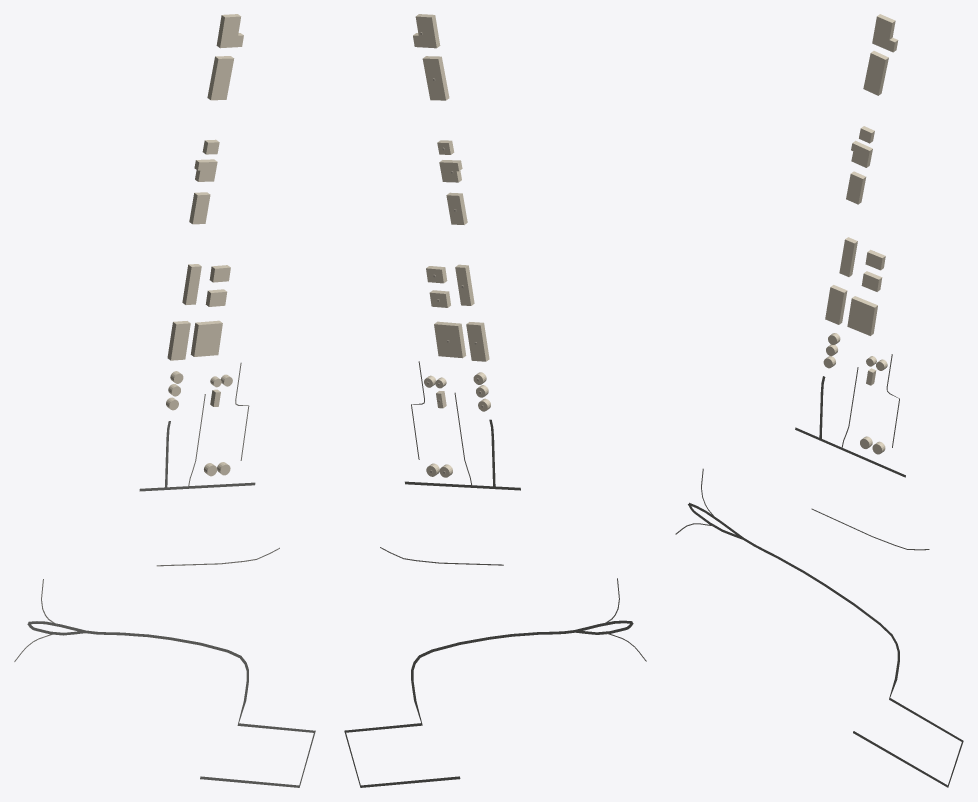
File: historic-palestine-12_16_3535_3102.glb
The picture shows the model from 3 angles, left to right: view 1: azimuth 30°, elevation 25°; view 2: azimuth 150°, elevation 25°; view 3: azimuth 330°, elevation 25°; orthographic projection. The views are drawn at different scales.
Visible parts, largest first — view 1: Road .001, Building_.012, Building_.009, Building_.005, Building_, Building_.004, Building_.016; view 2: Road .001, Building_.012, Building_.009, Building_.005, Building_, Building_.004, Building_.016; view 3: Road .001, Building_.012, Building_.009, Building_.005, Building_, Building_.004.
Boxes of the visible parts, x1=… form: Road .001: x1=85, y1=630, x2=315, y2=787; Building_.012: x1=190, y1=320, x2=222, y2=356; Building_.009: x1=207, y1=56, x2=234, y2=100; Building_.005: x1=216, y1=14, x2=243, y2=48; Building_: x1=167, y1=321, x2=190, y2=360; Building_.004: x1=182, y1=264, x2=201, y2=304; Building_.016: x1=189, y1=192, x2=210, y2=224; Road .001: x1=344, y1=630, x2=575, y2=787; Building_.012: x1=434, y1=321, x2=466, y2=358; Building_.009: x1=422, y1=56, x2=449, y2=100; Building_.005: x1=413, y1=14, x2=440, y2=48; Building_: x1=466, y1=322, x2=489, y2=361; Building_.004: x1=455, y1=264, x2=474, y2=305; Building_.016: x1=446, y1=192, x2=467, y2=224; Road .001: x1=743, y1=538, x2=963, y2=787; Building_.012: x1=847, y1=296, x2=877, y2=335; Building_.009: x1=863, y1=51, x2=888, y2=95; Building_.005: x1=872, y1=14, x2=898, y2=52; Building_: x1=825, y1=285, x2=847, y2=324; Building_.004: x1=839, y1=237, x2=857, y2=276.
Size of the model in its own units: 382 by 954 by 8.7.
